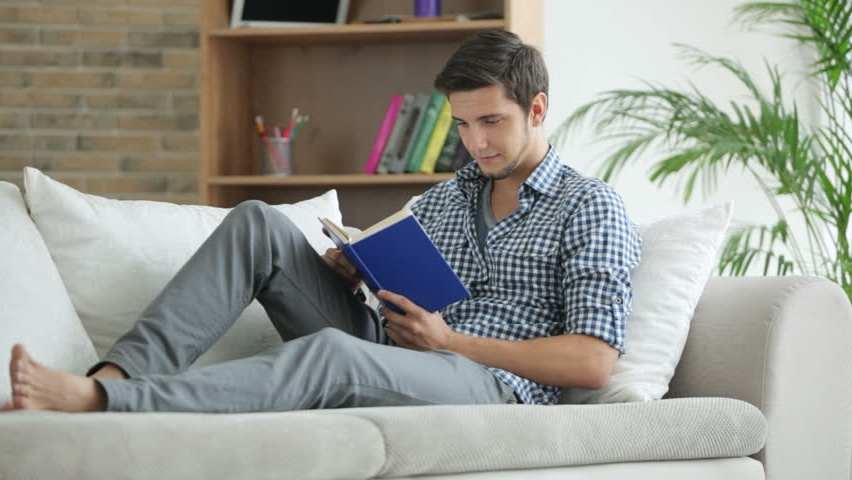not_fallen: (0, 22, 645, 419)
